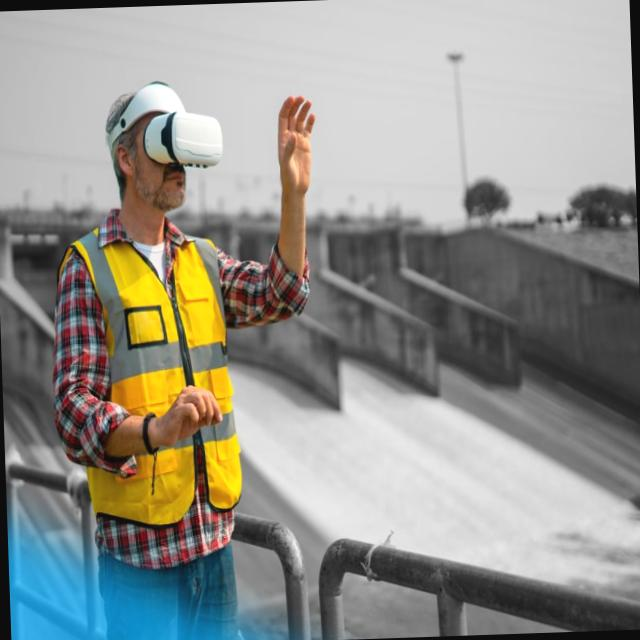no-helmet: (102, 32, 204, 130)
vest: (77, 212, 238, 518)
